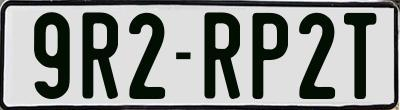2: (127, 11, 166, 103), (297, 13, 336, 104)
9: (34, 12, 72, 104)
P: (250, 13, 291, 101)
R: (204, 10, 241, 103), (82, 10, 120, 98)
T: (341, 12, 373, 101)
